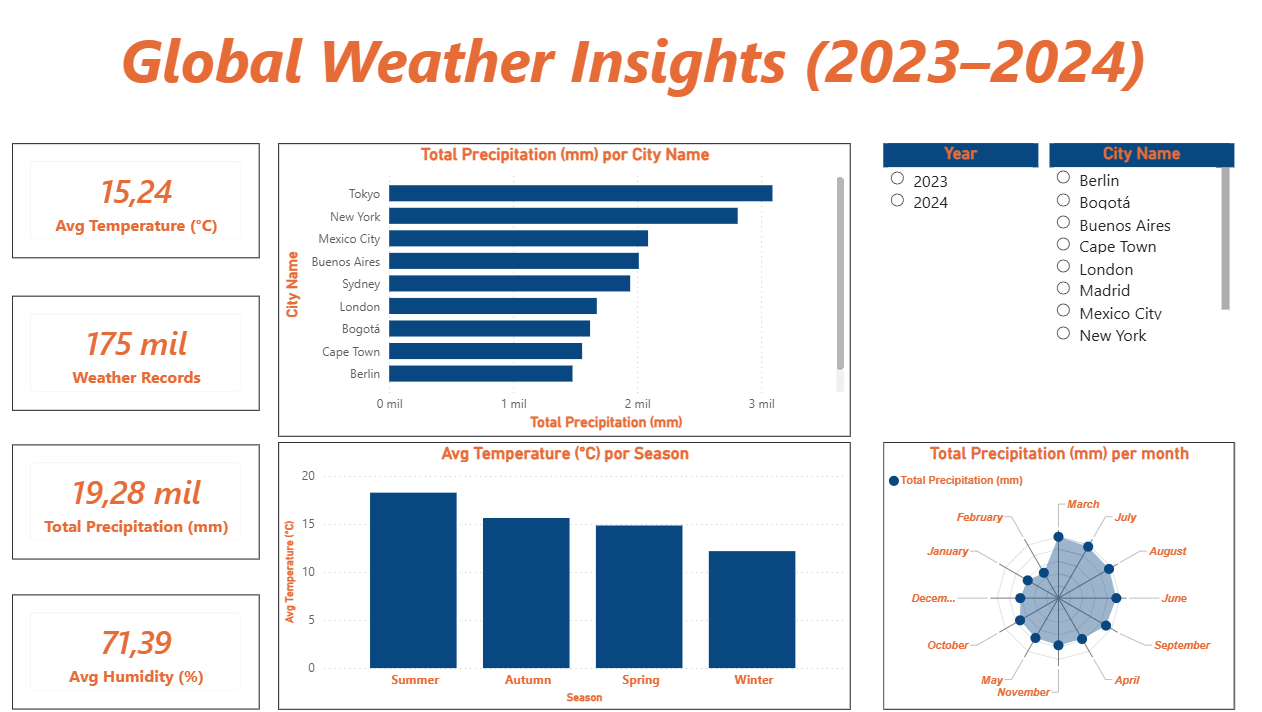

Layout of this report page (visuals, bound fields, positions):
{"tool":"powerbi","page":{"name":"DASHBOARD","canvas":[1280,720],"ordinal":0},"visuals":[{"type":"cardVisual","fields":{"Data":["weather_etl vw_weather_analysis.Total Precipitation (mm)"]},"box":[14.9,450.3,246.3,114.4],"z":0},{"type":"cardVisual","fields":{"Data":["weather_etl vw_weather_analysis.Avg Temperature (°C)"]},"box":[14.9,150.5,246.3,114.4],"z":1000},{"type":"cardVisual","fields":{"Data":["weather_etl vw_weather_analysis.Weather Records"]},"box":[14.9,302.3,246.3,114.4],"z":2000},{"type":"cardVisual","fields":{"Data":["weather_etl vw_weather_analysis.Avg Humidity (%)"]},"box":[14.9,599.6,246.3,114.4],"z":3000},{"type":"clusteredBarChart","fields":{"Category":["weather_etl vw_weather_analysis.city_name"],"Y":["weather_etl vw_weather_analysis.Total Precipitation (mm)"]},"box":[279.9,150.5,569.7,292.3],"z":4000},{"type":"clusteredColumnChart","fields":{"Category":["weather_etl vw_weather_analysis.season"],"Y":["weather_etl vw_weather_analysis.Avg Temperature (°C)"]},"box":[279.9,447.8,569.7,266.2],"z":5000},{"type":"listSlicer","fields":{"Values":["weather_etl vw_weather_analysis.city_name"]},"box":[1047.4,150.5,184.1,205.3],"z":6000},{"type":"listSlicer","title":"Year","fields":{"Values":["weather_etl vw_weather_analysis.date.Variación.Jerarquía de fechas.Año"]},"box":[882,150.5,154.3,205.3],"z":7000},{"type":"textbox","box":[0,21.1,1267.6,105.7],"z":8000},{"type":"RadarChart1446119667547","title":"Total Precipitation (mm) per month","fields":{"Category":["weather_etl vw_weather_analysis.month_name"],"Y":["weather_etl vw_weather_analysis.Total Precipitation (mm)"]},"box":[882,447.8,349.6,266.2],"z":9000}]}

Visuals, with their boxes in screenshot pixels (x1, y1, x2, y2), scaled from the page's 1280x720 canvas onto the 1262x712 screenshot:
cardVisual - weather_etl vw_weather_analysis.Total Precipitation (mm): 15:445:258:558
cardVisual - weather_etl vw_weather_analysis.Avg Temperature (°C): 15:149:258:262
cardVisual - weather_etl vw_weather_analysis.Weather Records: 15:299:258:412
cardVisual - weather_etl vw_weather_analysis.Avg Humidity (%): 15:593:258:706
clusteredBarChart - weather_etl vw_weather_analysis.city_name x weather_etl vw_weather_analysis.Total Precipitation (mm): 276:149:838:438
clusteredColumnChart - weather_etl vw_weather_analysis.season x weather_etl vw_weather_analysis.Avg Temperature (°C): 276:443:838:706
listSlicer - weather_etl vw_weather_analysis.city_name: 1033:149:1214:352
"Year" listSlicer: 870:149:1022:352
textbox: 0:21:1250:125
"Total Precipitation (mm) per month" RadarChart1446119667547: 870:443:1214:706
